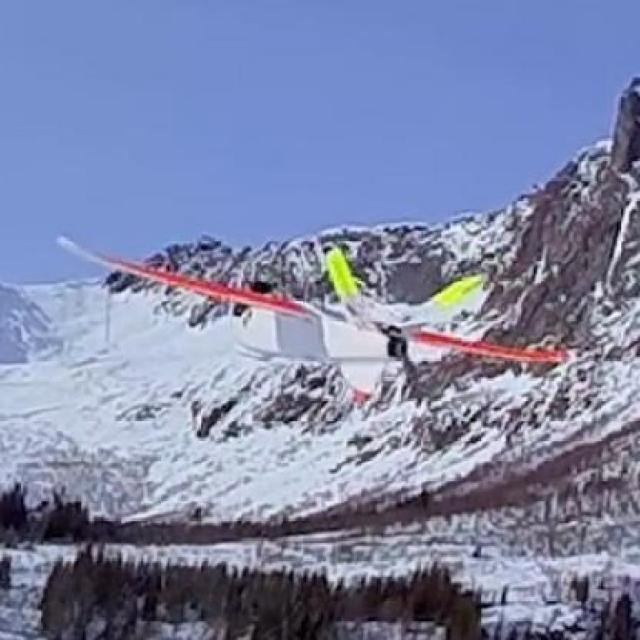iha: (38, 217, 577, 402)
